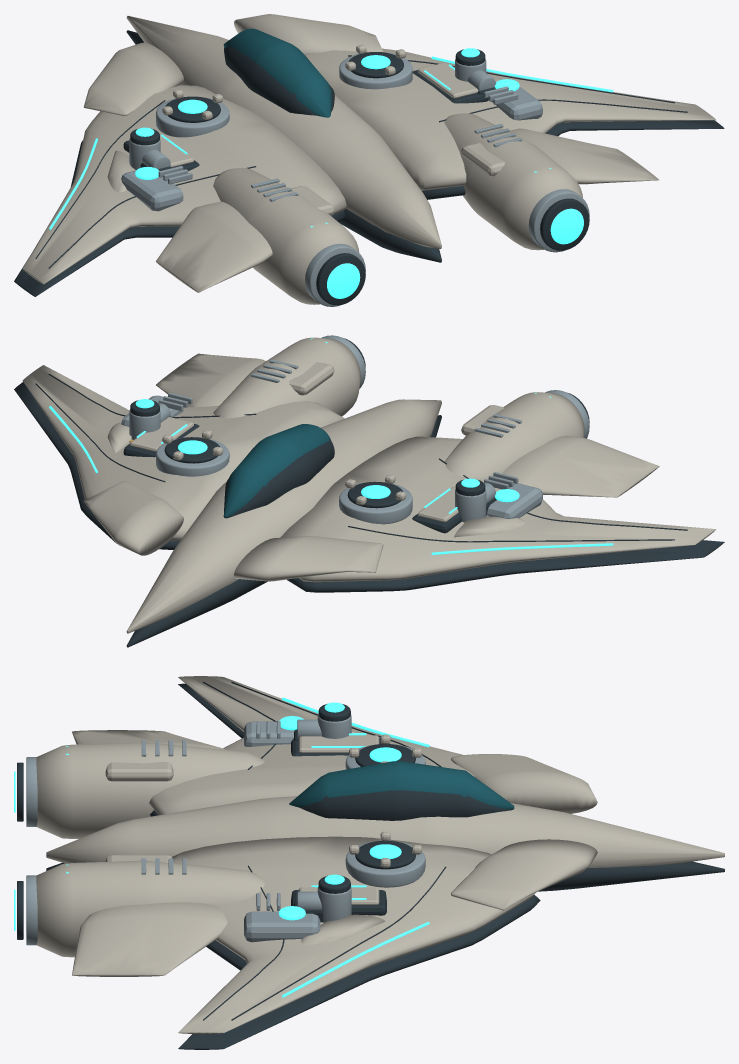
Rendered from escort-3.glb.
3 views of the same model, one above another, from view 1: azimuth 30°, elevation 25°; view 2: azimuth 150°, elevation 25°; view 3: azimuth 270°, elevation 25° (orthographic). The views are drawn at different scales.
Visible parts, largest first — view 1: SM_Wing_Left, SM_Hull, SM_Wing_Right, SM_Engine_Left, SM_Engine_Right, SM_Shield_Left, SM_Shield_Right, SM_Stage03, SM_Stage04, SM_Bay_Right, SM_Stage01, SM_Stage02 (+1 smaller); view 2: SM_Wing_Left, SM_Hull, SM_Wing_Right, SM_Engine_Right, SM_Engine_Left, SM_Shield_Left, SM_Shield_Right, SM_Stage04, SM_Stage03, SM_Stage02, SM_Bay_Right, SM_Bay_Left; view 3: SM_Wing_Right, SM_Hull, SM_Wing_Left, SM_Engine_Left, SM_Engine_Right, SM_Shield_Right, SM_Stage04, SM_Stage03, SM_Shield_Left, SM_Stage02, SM_Bay_Left, SM_Stage01.
Boxes of the visible parts, x1,y1,x2,y2 form: SM_Wing_Left: [14, 42, 346, 296]; SM_Hull: [121, 16, 542, 262]; SM_Wing_Right: [234, 14, 724, 199]; SM_Engine_Left: [213, 167, 365, 306]; SM_Engine_Right: [444, 113, 589, 252]; SM_Shield_Left: [135, 89, 229, 179]; SM_Shield_Right: [339, 44, 519, 91]; SM_Stage03: [158, 86, 518, 215]; SM_Stage04: [129, 48, 486, 170]; SM_Bay_Right: [417, 62, 478, 98]; SM_Stage01: [140, 70, 496, 170]; SM_Stage02: [107, 77, 502, 192]; SM_Wing_Left: [234, 435, 724, 592]; SM_Hull: [121, 395, 542, 647]; SM_Wing_Right: [14, 353, 344, 555]; SM_Engine_Right: [213, 335, 365, 418]; SM_Engine_Left: [444, 390, 589, 478]; SM_Shield_Left: [339, 474, 519, 524]; SM_Shield_Right: [156, 430, 229, 476]; SM_Stage04: [129, 399, 486, 522]; SM_Stage03: [158, 362, 518, 489]; SM_Stage02: [107, 422, 525, 537]; SM_Bay_Right: [130, 417, 193, 451]; SM_Bay_Left: [417, 486, 458, 522]; SM_Wing_Right: [72, 836, 597, 1049]; SM_Hull: [46, 721, 724, 942]; SM_Wing_Left: [72, 676, 597, 816]; SM_Engine_Left: [14, 740, 264, 838]; SM_Engine_Right: [14, 858, 264, 957]; SM_Shield_Right: [278, 831, 425, 920]; SM_Stage04: [317, 702, 351, 922]; SM_Stage03: [105, 721, 280, 910]; SM_Shield_Left: [279, 716, 425, 769]; SM_Stage02: [301, 732, 384, 944]; SM_Bay_Left: [298, 735, 379, 752]; SM_Stage01: [294, 719, 322, 922].
Bounding box in the file's own units: 10.17 × 1.68 × 8.38.
